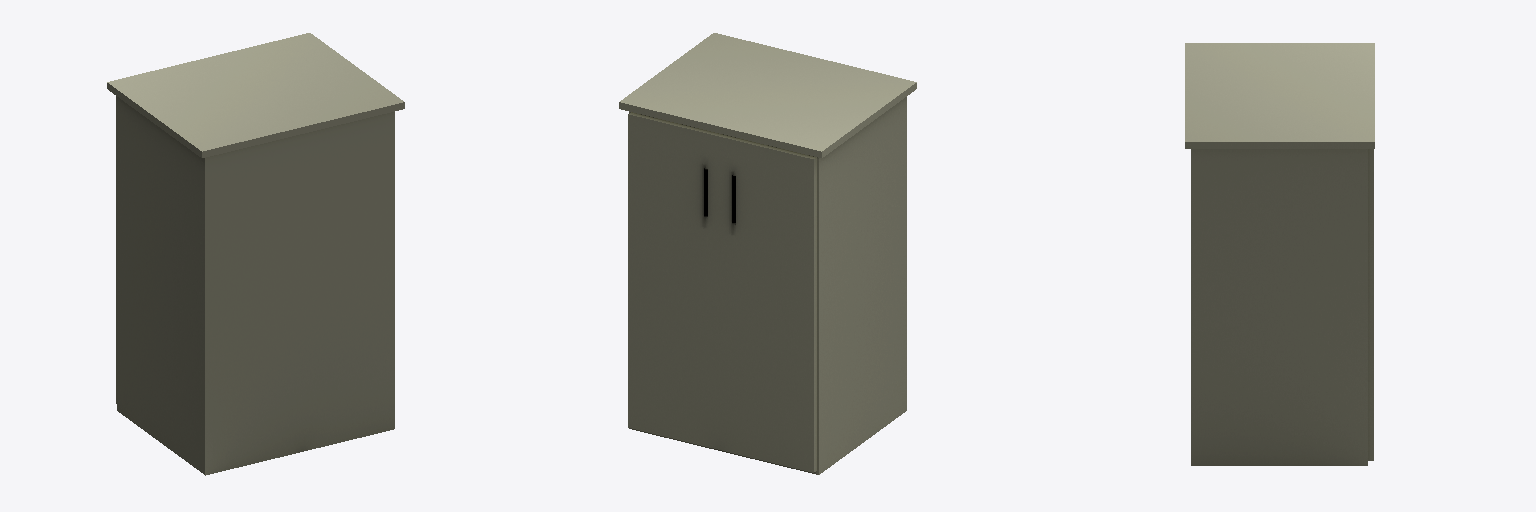
3 renders of one model, left to right at view 1: azimuth 30°, elevation 25°; view 2: azimuth 150°, elevation 25°; view 3: azimuth 270°, elevation 25°, orthographic.
Visible parts, largest first — view 1: Cube.032_Cube.030; view 2: Cube.032_Cube.030; view 3: Cube.032_Cube.030.
Part boxes in pixels (bbox=[...]): Cube.032_Cube.030: bbox=[107, 33, 404, 475]; Cube.032_Cube.030: bbox=[619, 33, 916, 474]; Cube.032_Cube.030: bbox=[1185, 43, 1374, 465].
Bounding box in the file's own units: 6.39 × 9.86 × 5.18.
1 materials, 1 textured.